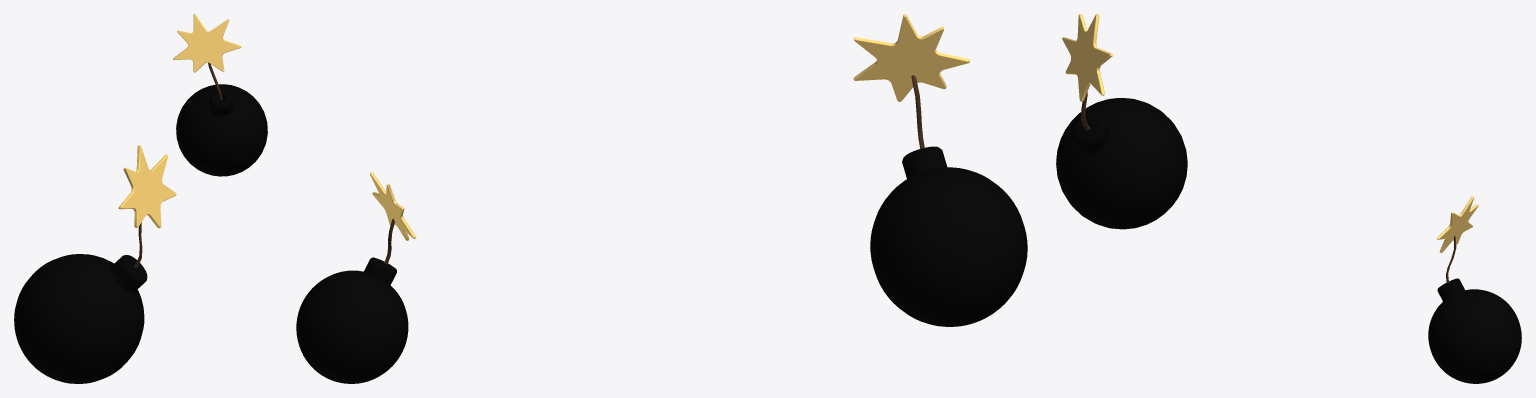
File: Bomb.glb
3 views of the same model, side by side, from view 1: azimuth 30°, elevation 25°; view 2: azimuth 150°, elevation 25°; view 3: azimuth 270°, elevation 25° (orthographic). The views are drawn at different scales.
Parts seen in each view (by area): view 1: bomb (×2), explosion1 (×2); view 2: bomb (×2), explosion1 (×2); view 3: bomb (×2), explosion1 (×2).
Boxes of the visible parts, x1,y1,x2,y2 form: bomb (×2): (14,84,267,383); explosion1 (×2): (118,14,241,228); bomb (×2): (296,146,1027,383); explosion1 (×2): (370,14,969,240); bomb (×2): (1056,98,1521,383); explosion1 (×2): (1062,14,1478,252).
Size of the model in its own units: 1.65 by 0.8792 by 1.59.
